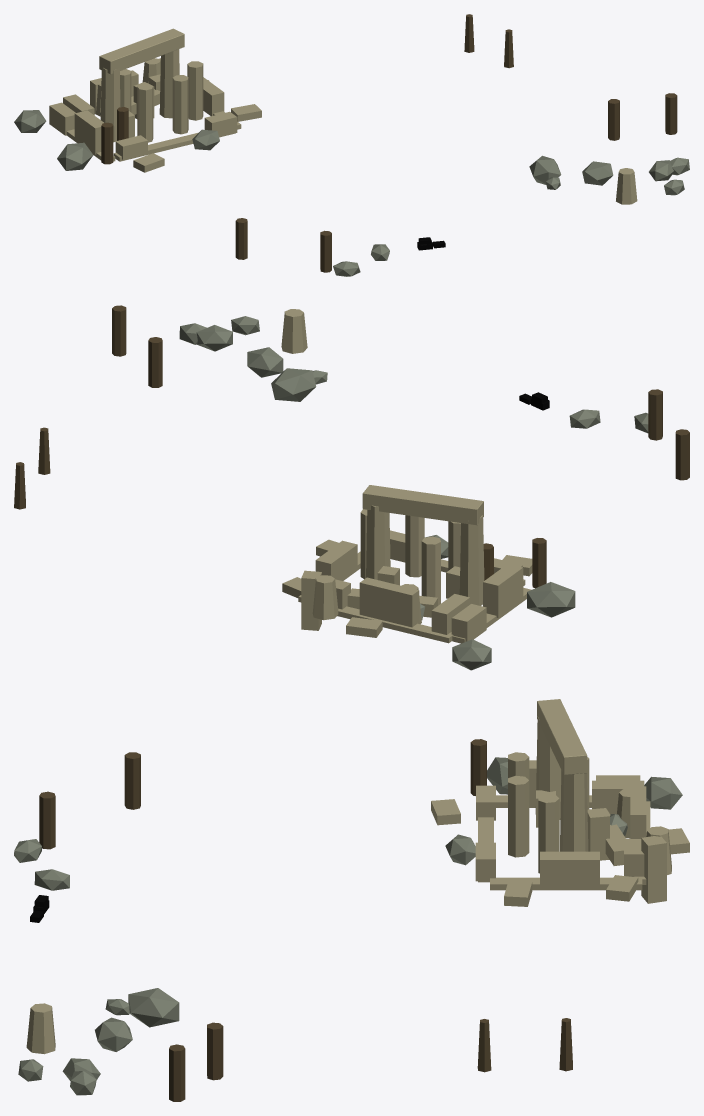
File: mossbound_ruins_solid_props.fbx
3 renders of one model, top to bottom at view 1: azimuth 30°, elevation 25°; view 2: azimuth 150°, elevation 25°; view 3: azimuth 270°, elevation 25°, orthographic. The views are drawn at different scales.
Parts seen in each view (by area): view 1: chunk_mossbound_ruins__PropsSolid; view 2: chunk_mossbound_ruins__PropsSolid; view 3: chunk_mossbound_ruins__PropsSolid.
Part boxes in pixels (left/top/right/bottom): chunk_mossbound_ruins__PropsSolid: left=14, top=14, right=689, bottom=276; chunk_mossbound_ruins__PropsSolid: left=14, top=305, right=689, bottom=670; chunk_mossbound_ruins__PropsSolid: left=14, top=699, right=689, bottom=1101.
Size of the model in its own units: 196 by 36.28 by 169.
